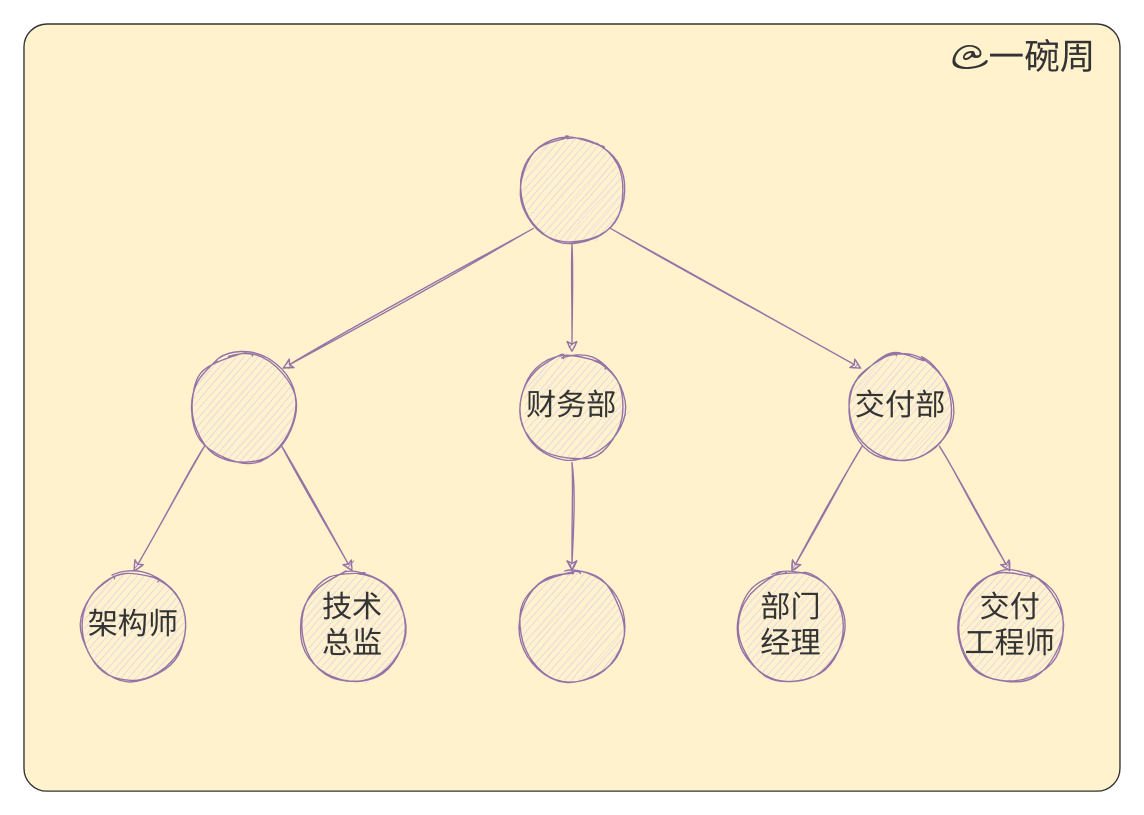
Some shapes in this 1144 by 815 pixel diagram are drawn without their labels. The centre of each missing label's shape, as x and y in pixels:
XX公司: (571,189)
出纳: (571,626)
研发部: (242,406)
